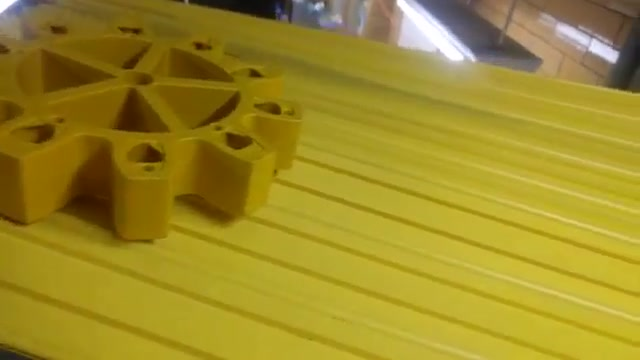gear: (1, 16, 306, 249)
